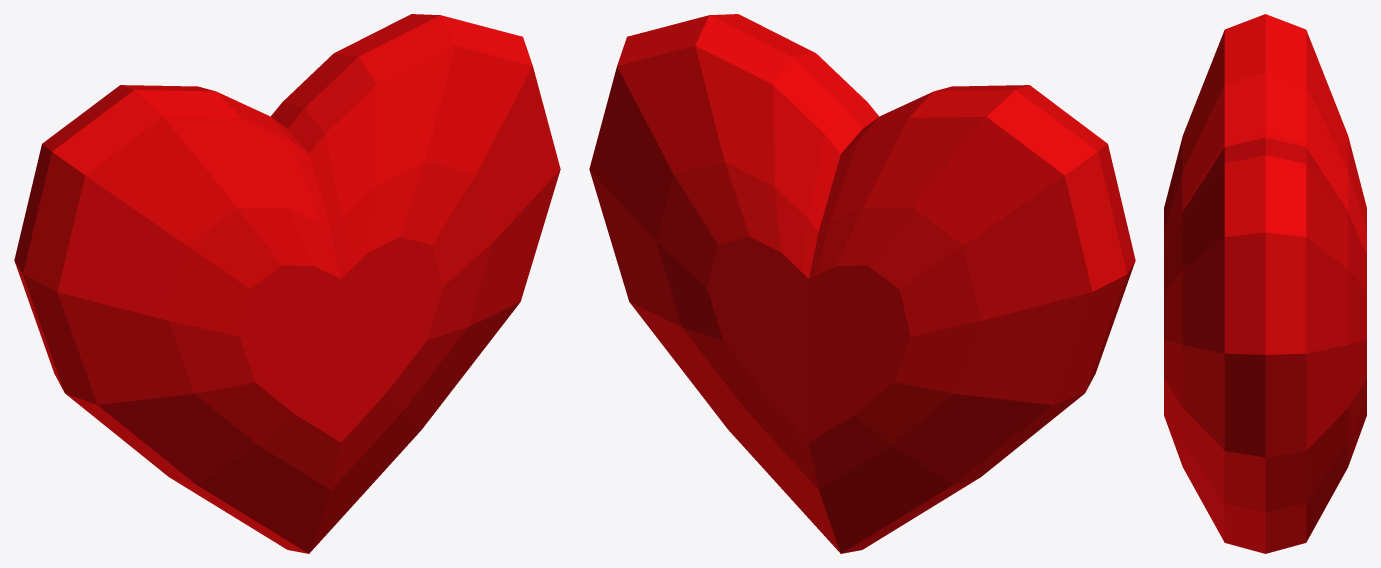
The model's file is Heart.fbx.
3 renders of one model, left to right at view 1: azimuth 30°, elevation 25°; view 2: azimuth 150°, elevation 25°; view 3: azimuth 270°, elevation 25°, orthographic. The views are drawn at different scales.
Parts seen in each view (by area): view 1: Heart; view 2: Heart; view 3: Heart.
Part boxes in pixels (x1=…): Heart: x1=14, y1=14, x2=560, y2=553; Heart: x1=589, y1=14, x2=1135, y2=553; Heart: x1=1164, y1=14, x2=1366, y2=553.
Bounding box in the file's own units: 360 × 323 × 127.
